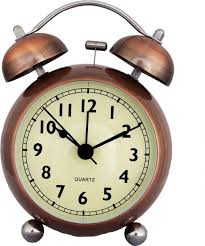alarm_clock: (4, 1, 172, 242)
